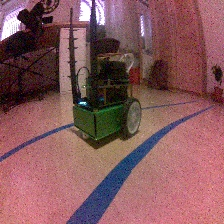rob: (72, 59, 142, 141)
